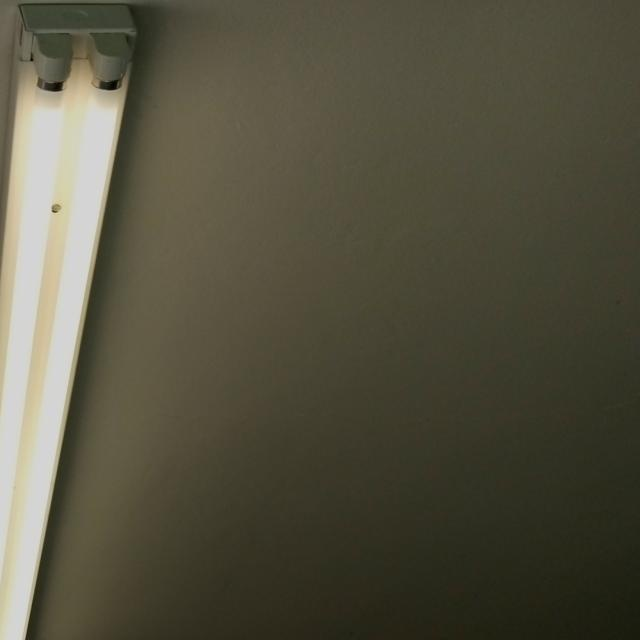fluorescent tube: (0, 0, 160, 640)
